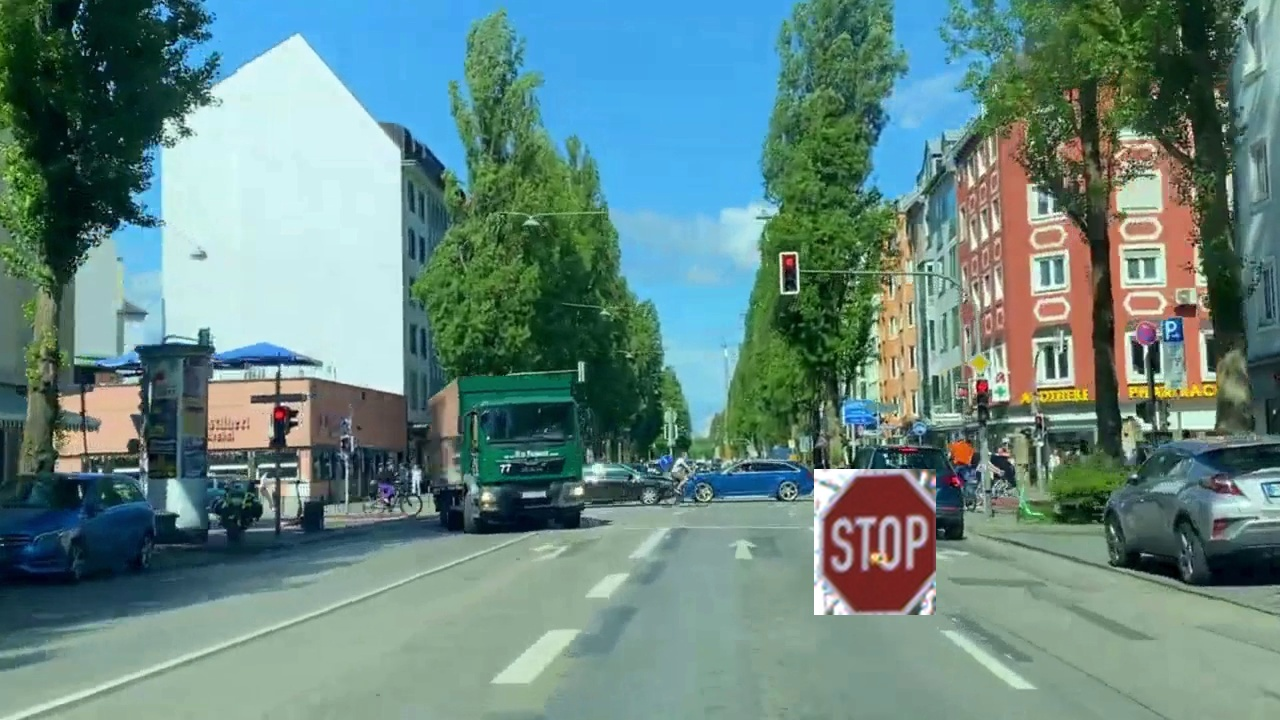Stop: (814, 469, 936, 615)
